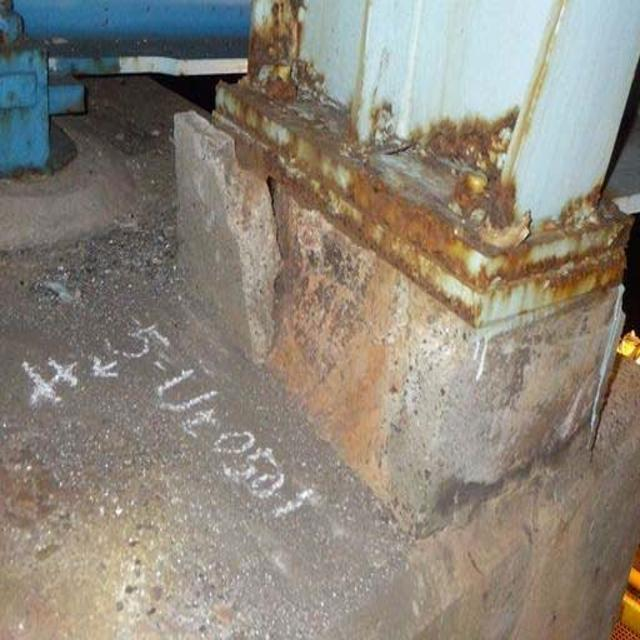corrosion: (224, 16, 633, 313)
